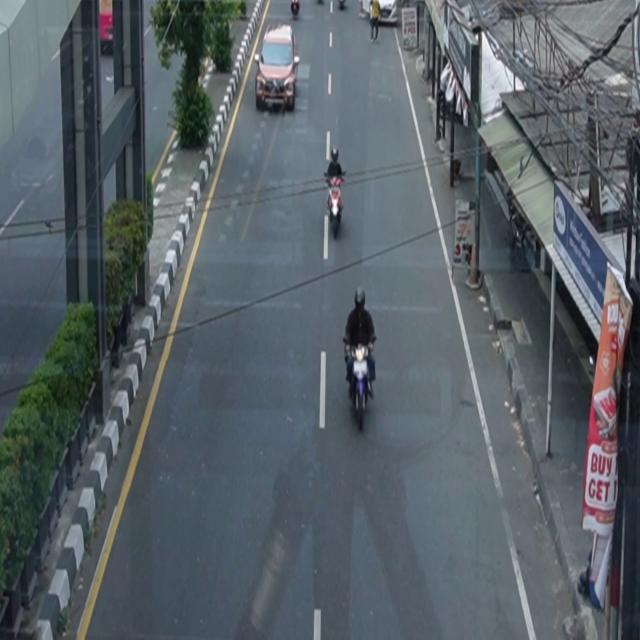car: (255, 24, 301, 113)
